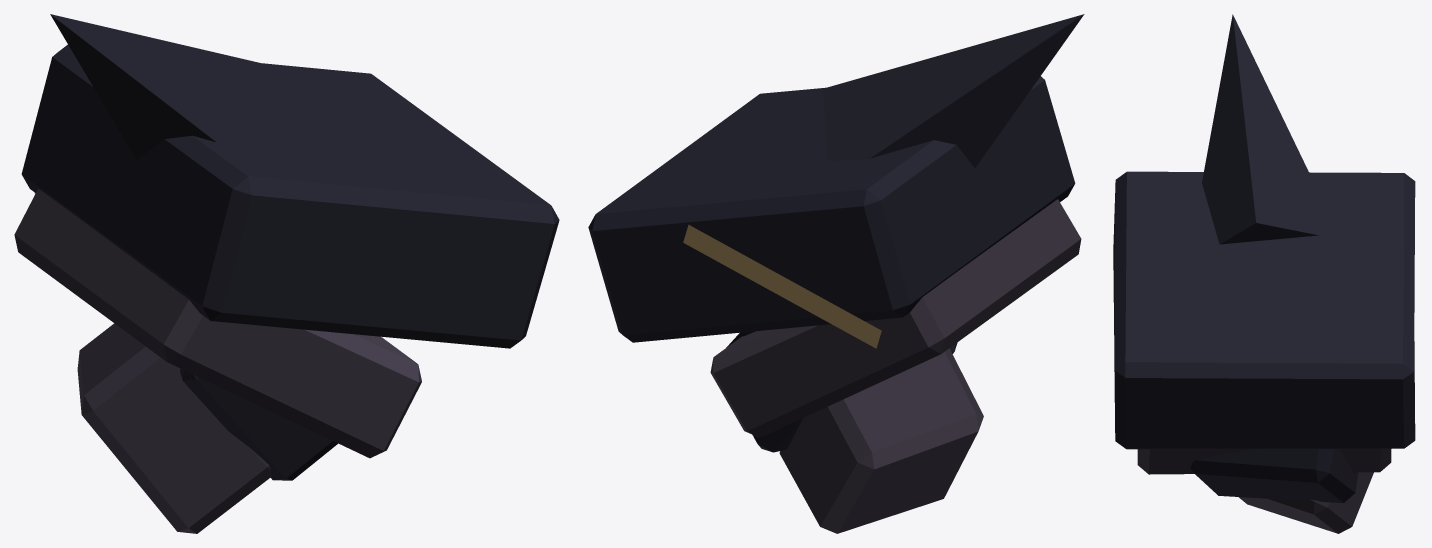
Rendered from soberano_braco_esq.fbx.
3 views of the same model, side by side, from view 1: azimuth 30°, elevation 25°; view 2: azimuth 150°, elevation 25°; view 3: azimuth 270°, elevation 25° (orthographic). The views are drawn at different scales.
Parts seen in each view (by area): view 1: soberano_braco_esq; view 2: soberano_braco_esq; view 3: soberano_braco_esq.
Part boxes in pixels (x1,y1,x2,y2): soberano_braco_esq: (14,14,559,533); soberano_braco_esq: (588,14,1084,533); soberano_braco_esq: (1113,14,1415,533).
Bounding box in the file's own units: 2.46 × 3.07 × 1.93.
